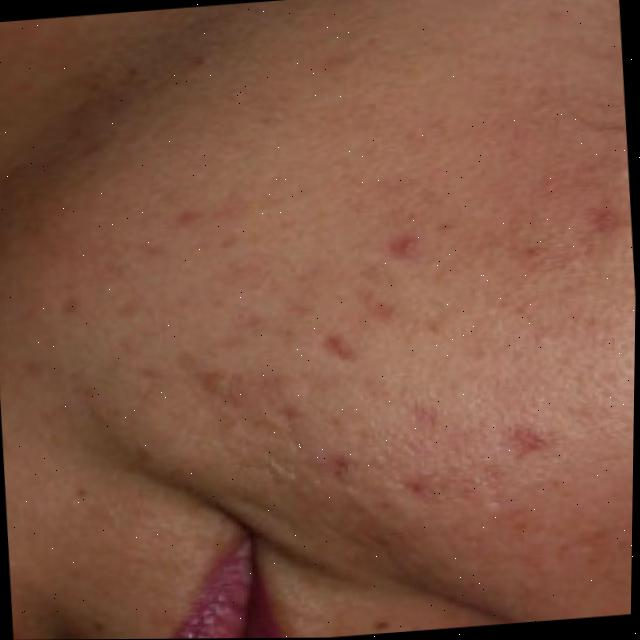Acne: (61, 21, 633, 617)
